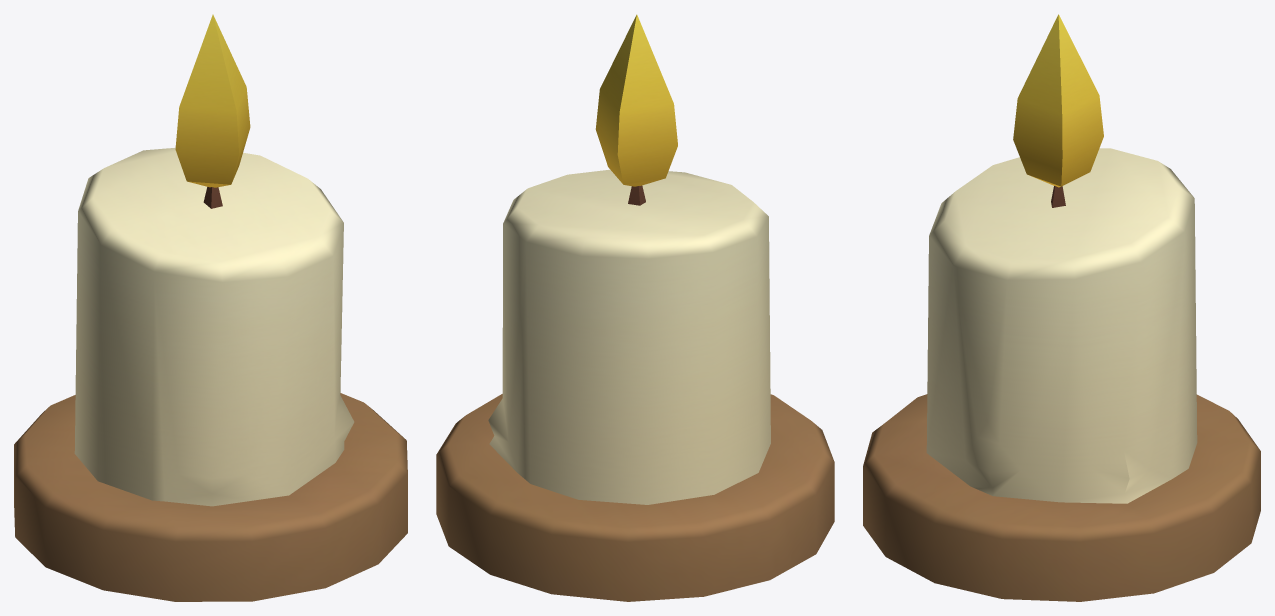
The model's file is WBA_Witch_Cauldron_Candle_01.fbx.
3 renders of one model, left to right at view 1: azimuth 30°, elevation 25°; view 2: azimuth 150°, elevation 25°; view 3: azimuth 270°, elevation 25°, orthographic.
Visible parts, largest first — view 1: WBA_Witch_Cauldron_Candle_01; view 2: WBA_Witch_Cauldron_Candle_01; view 3: WBA_Witch_Cauldron_Candle_01.
Part boxes in pixels (x1,y1,x2,y2): WBA_Witch_Cauldron_Candle_01: (14, 14, 407, 601); WBA_Witch_Cauldron_Candle_01: (436, 14, 834, 601); WBA_Witch_Cauldron_Candle_01: (863, 14, 1260, 601).
Size of the model in its own units: 9.79 by 13.7 by 9.79.
